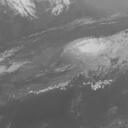cyclone: (66, 35, 121, 84)
